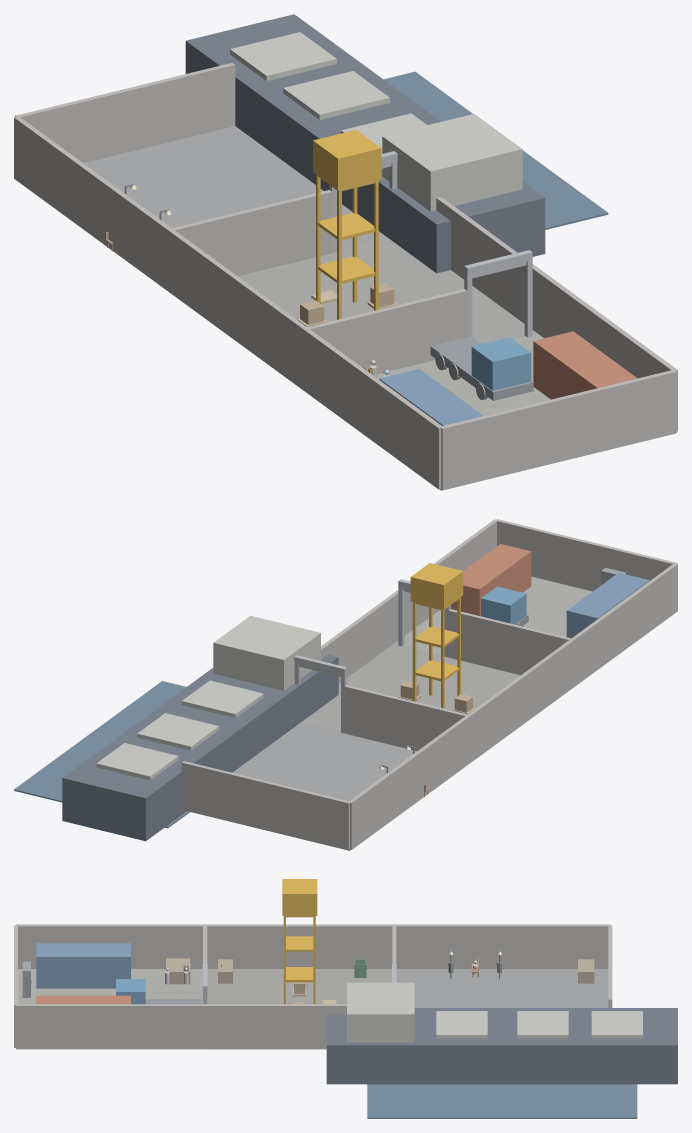
3 renders of one model, top to bottom at view 1: azimuth 30°, elevation 25°; view 2: azimuth 150°, elevation 25°; view 3: azimuth 270°, elevation 25°, orthographic. The views are drawn at different scales.
Parts seen in each view (by area): view 1: Moored_Ship, Wall_Entrance_S01, Floor_S03, Wall_Far_S03, Wall_West_S03, Floor_S02, Wall_West_S01, Wall_West_S02, Wall_North_S02, Wall_North_S01, Crane_Base, Wall_East_S01 (+8 smaller); view 2: Moored_Ship, Wall_Far_S03, Floor_S03, Wall_West_S03, Floor_S02, Wall_Entrance_S01, Wall_West_S02, Wall_West_S01, Wall_North_S02, Wall_North_S01, Crane_Base, Water_Surface (+8 smaller); view 3: Moored_Ship, Water_Surface, Wall_West_S03, Wall_East_S01, Wall_West_S02, Floor_S03, Wall_East_S02, Wall_West_S01, Floor_S02, Container_Left, Floor_S01, Crane_Base (+7 smaller).
Part boxes in pixels (<box>): Moored_Ship: <box>185,14,545,273</box>; Wall_Entrance_S01: <box>441,370,676,489</box>; Floor_S03: <box>83,126,387,249</box>; Wall_Far_S03: <box>15,62,235,162</box>; Wall_West_S03: <box>14,116,172,291</box>; Floor_S02: <box>238,238,537,343</box>; Wall_West_S01: <box>303,328,442,489</box>; Wall_West_S02: <box>168,229,308,390</box>; Wall_North_S02: <box>172,190,331,275</box>; Wall_North_S01: <box>307,289,467,373</box>; Crane_Base: <box>313,130,381,319</box>; Wall_East_S01: <box>537,271,677,431</box>; Moored_Ship: <box>62,615,338,841</box>; Wall_Far_S03: <box>181,761,349,850</box>; Floor_S03: <box>183,722,416,850</box>; Wall_West_S03: <box>348,715,470,849</box>; Floor_S02: <box>302,643,520,731</box>; Wall_Entrance_S01: <box>496,519,677,591</box>; Wall_West_S02: <box>467,639,574,762</box>; Wall_West_S01: <box>570,564,677,686</box>; Wall_North_S02: <box>344,685,467,750</box>; Wall_North_S01: <box>448,609,570,675</box>; Crane_Base: <box>410,563,463,708</box>; Water_Surface: <box>14,681,189,828</box>; Moored_Ship: <box>326,982,677,1084</box>; Water_Surface: <box>367,1084,637,1118</box>; Wall_West_S03: <box>394,924,610,968</box>; Wall_East_S01: <box>16,1004,204,1048</box>; Wall_West_S02: <box>205,924,394,968</box>; Floor_S03: <box>396,969,608,1007</box>; Wall_East_S02: <box>205,1004,346,1048</box>; Wall_West_S01: <box>16,924,204,968</box>; Floor_S02: <box>205,969,391,1049</box>; Container_Left: <box>36,943,130,988</box>; Floor_S01: <box>16,969,204,1049</box>; Crane_Base: <box>282,879,317,1004</box>.
Size of the model in its own units: 25.3 by 10.35 by 49.15.
